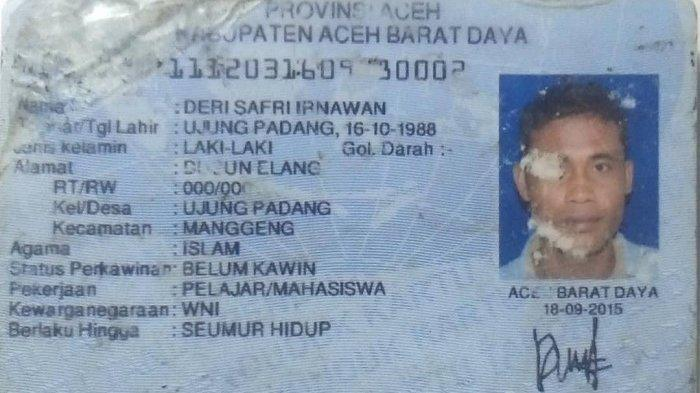ID-card: (1, 2, 695, 391)
